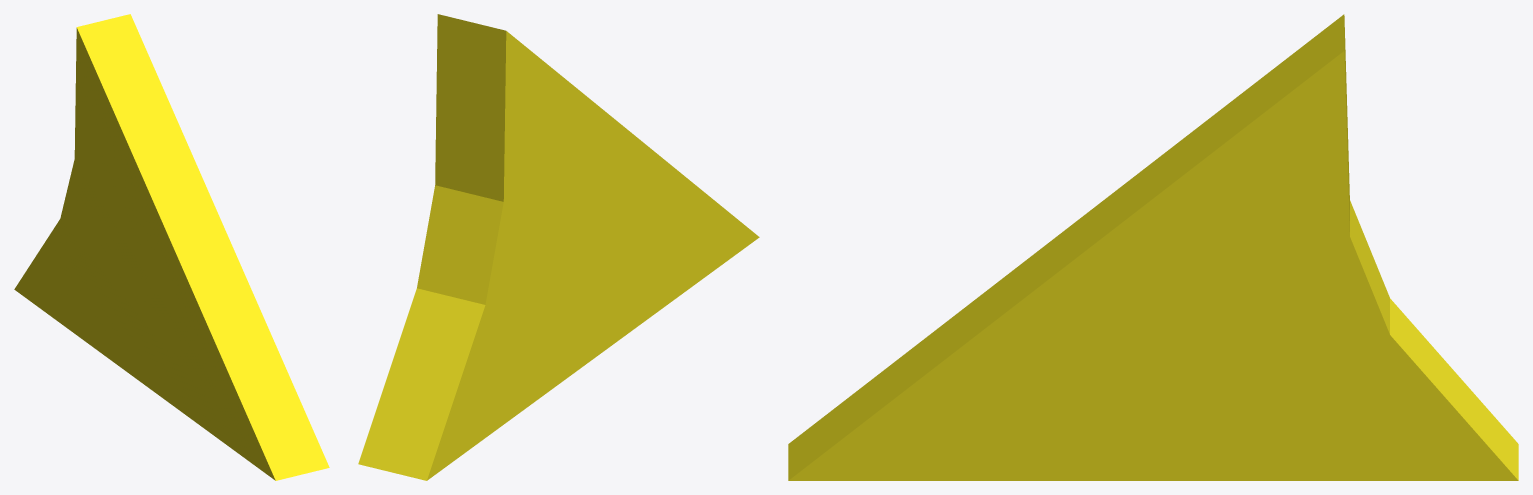
The model's file is cursor.glb.
3 views of the same model, side by side, from view 1: azimuth 30°, elevation 25°; view 2: azimuth 150°, elevation 25°; view 3: azimuth 270°, elevation 25° (orthographic). The views are drawn at different scales.
Parts seen in each view (by area): view 1: pointer-cursor; view 2: pointer-cursor; view 3: pointer-cursor.
Boxes of the visible parts, x1,y1,x2,y2 form: pointer-cursor: [14, 14, 329, 480]; pointer-cursor: [358, 14, 759, 480]; pointer-cursor: [788, 14, 1518, 480].
Size of the model in its own units: 0.0185 by 0.101 by 0.1554.
